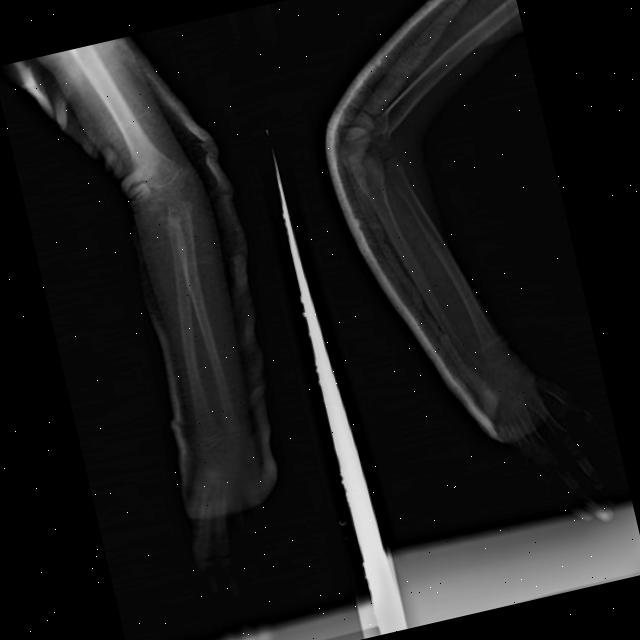Fracture: (381, 222, 410, 250), (183, 266, 202, 304)
